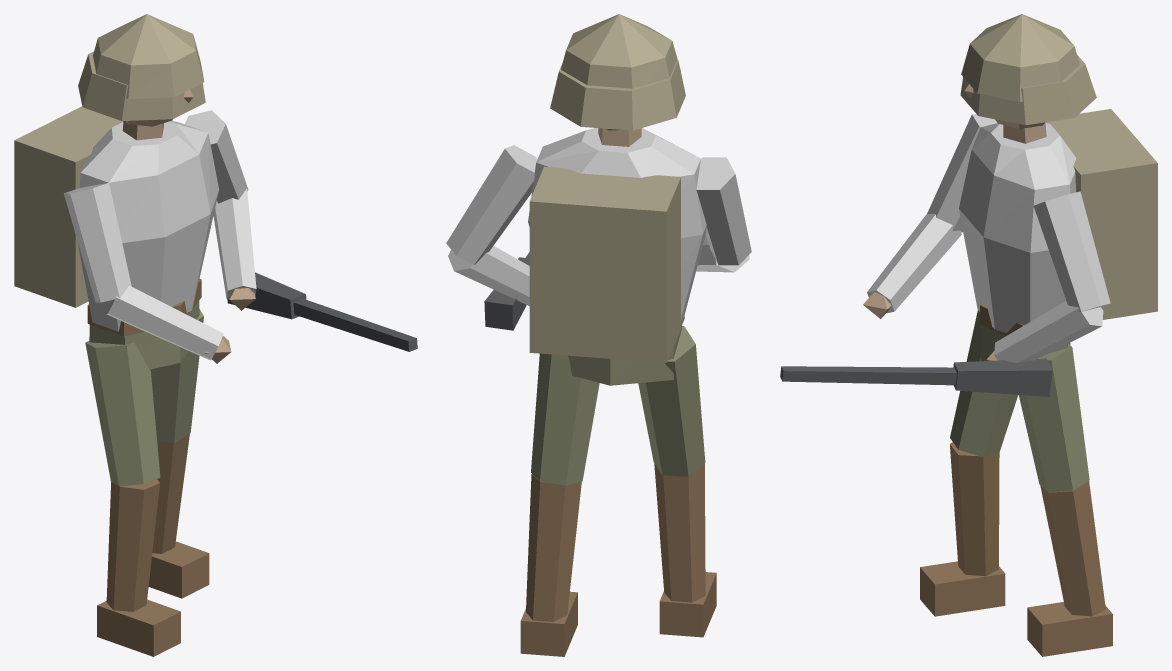
Rendered from paratrooper.glb.
The picture shows the model from 3 angles, left to right: view 1: azimuth 30°, elevation 25°; view 2: azimuth 150°, elevation 25°; view 3: azimuth 270°, elevation 25°; orthographic projection. The views are drawn at different scales.
Visible parts, largest first — view 1: LOD0; view 2: LOD0; view 3: LOD0.
Part boxes in pixels (left/top/right/bottom): LOD0: left=14, top=14, right=417, bottom=656; LOD0: left=446, top=14, right=751, bottom=656; LOD0: left=780, top=14, right=1157, bottom=656.
Size of what is drawn, in the model's own units: 0.4266 by 0.981 by 0.5532.
